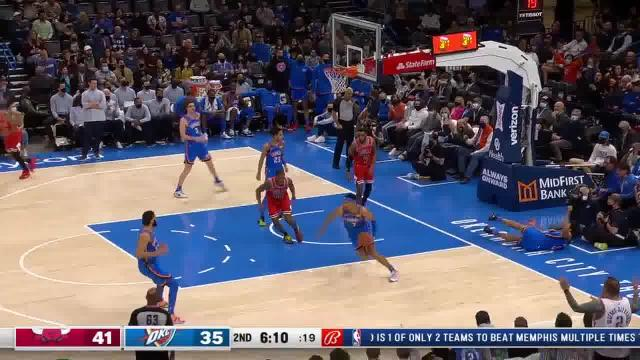ball-handler: (314, 193, 399, 286)
player: (134, 209, 187, 324), (173, 101, 230, 198), (256, 169, 305, 246), (255, 128, 287, 224), (345, 128, 377, 211)
